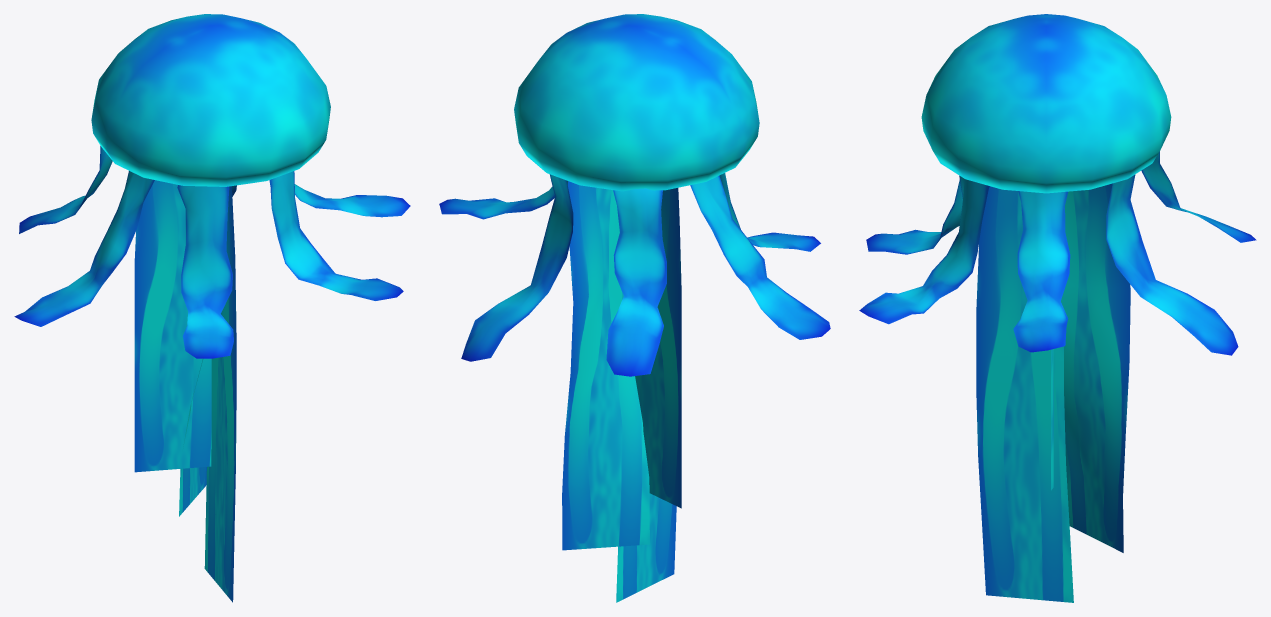
Rendered from p_mesh_jellyfish01_pose0.fbx.
The picture shows the model from 3 angles, left to right: view 1: azimuth 30°, elevation 25°; view 2: azimuth 150°, elevation 25°; view 3: azimuth 270°, elevation 25°; orthographic projection. The views are drawn at different scales.
Visible parts, largest first — view 1: jellyfish01_pose0; view 2: jellyfish01_pose0; view 3: jellyfish01_pose0.
Part boxes in pixels (<box>): jellyfish01_pose0: <box>14,14,410,602</box>; jellyfish01_pose0: <box>439,14,830,602</box>; jellyfish01_pose0: <box>859,14,1256,602</box>.
Size of the model in its own units: 4.53 by 6.29 by 3.96.
